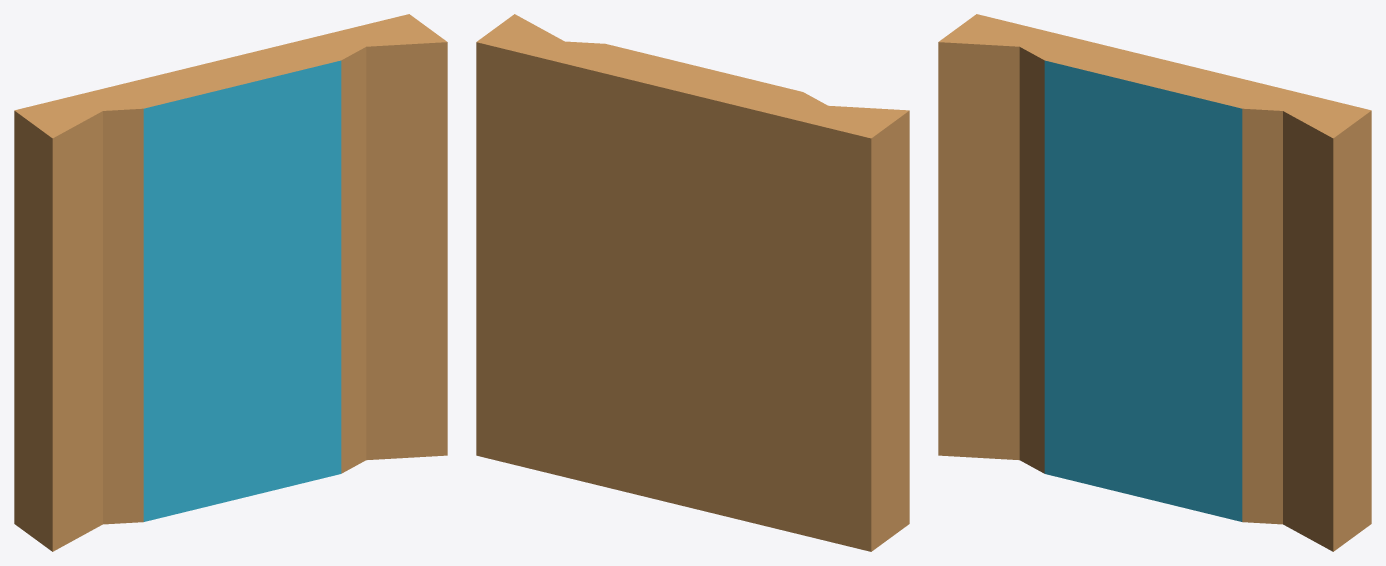
Rendered from cliff-waterfall.glb.
The picture shows the model from 3 angles, left to right: view 1: azimuth 30°, elevation 25°; view 2: azimuth 150°, elevation 25°; view 3: azimuth 330°, elevation 25°; orthographic projection.
Visible parts, largest first — view 1: cliff_waterfall_rock; view 2: cliff_waterfall_rock; view 3: cliff_waterfall_rock.
Part boxes in pixels (x1,y1,x2,y2): cliff_waterfall_rock: [14, 14, 447, 551]; cliff_waterfall_rock: [476, 14, 909, 551]; cliff_waterfall_rock: [938, 14, 1371, 551].
Size of the model in its own units: 4 by 4 by 0.6738.
